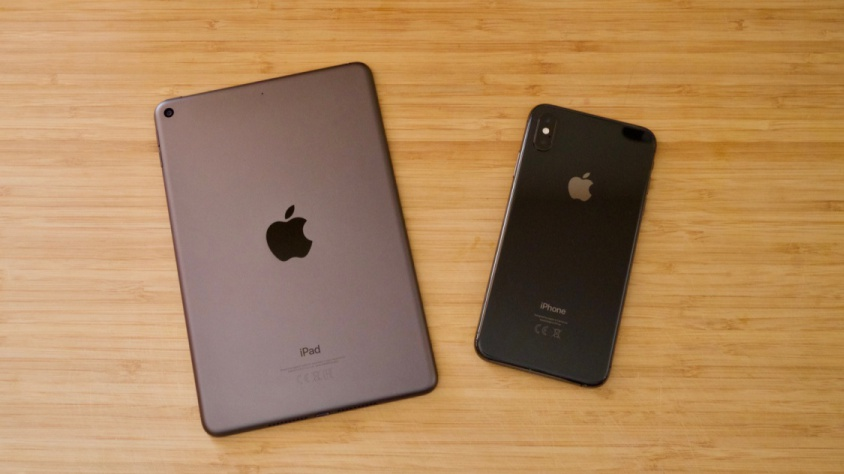apple: (257, 195, 336, 269), (555, 161, 594, 207)
